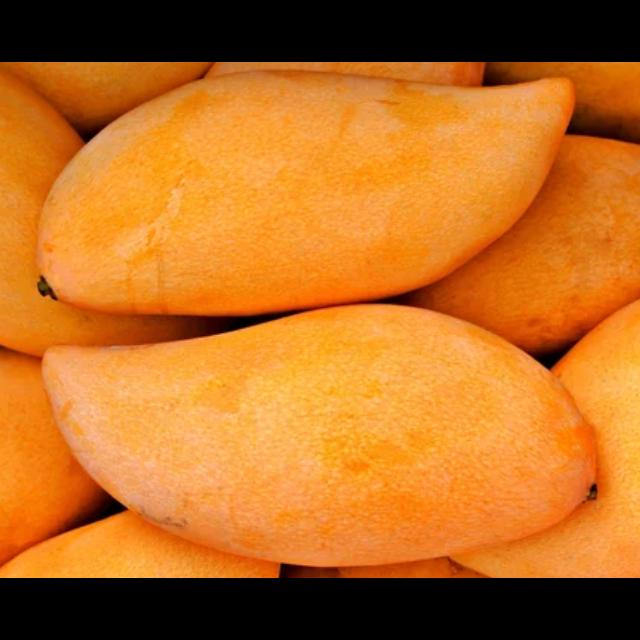mango: (42, 304, 597, 567), (37, 68, 566, 318)
